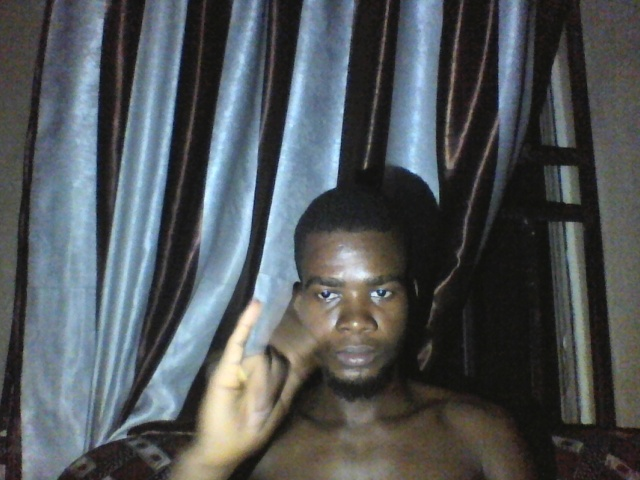i love you: (192, 287, 317, 474)
